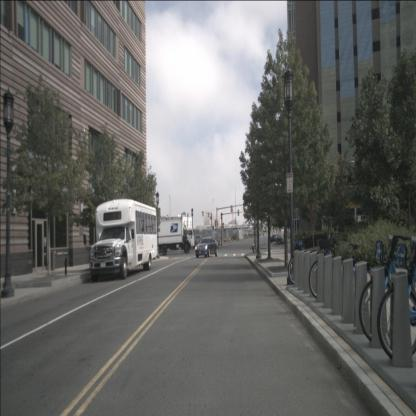vehicle-car: (89, 198, 158, 283), (195, 237, 219, 258), (270, 234, 283, 243)
vehicle-truck: (152, 219, 195, 256)
